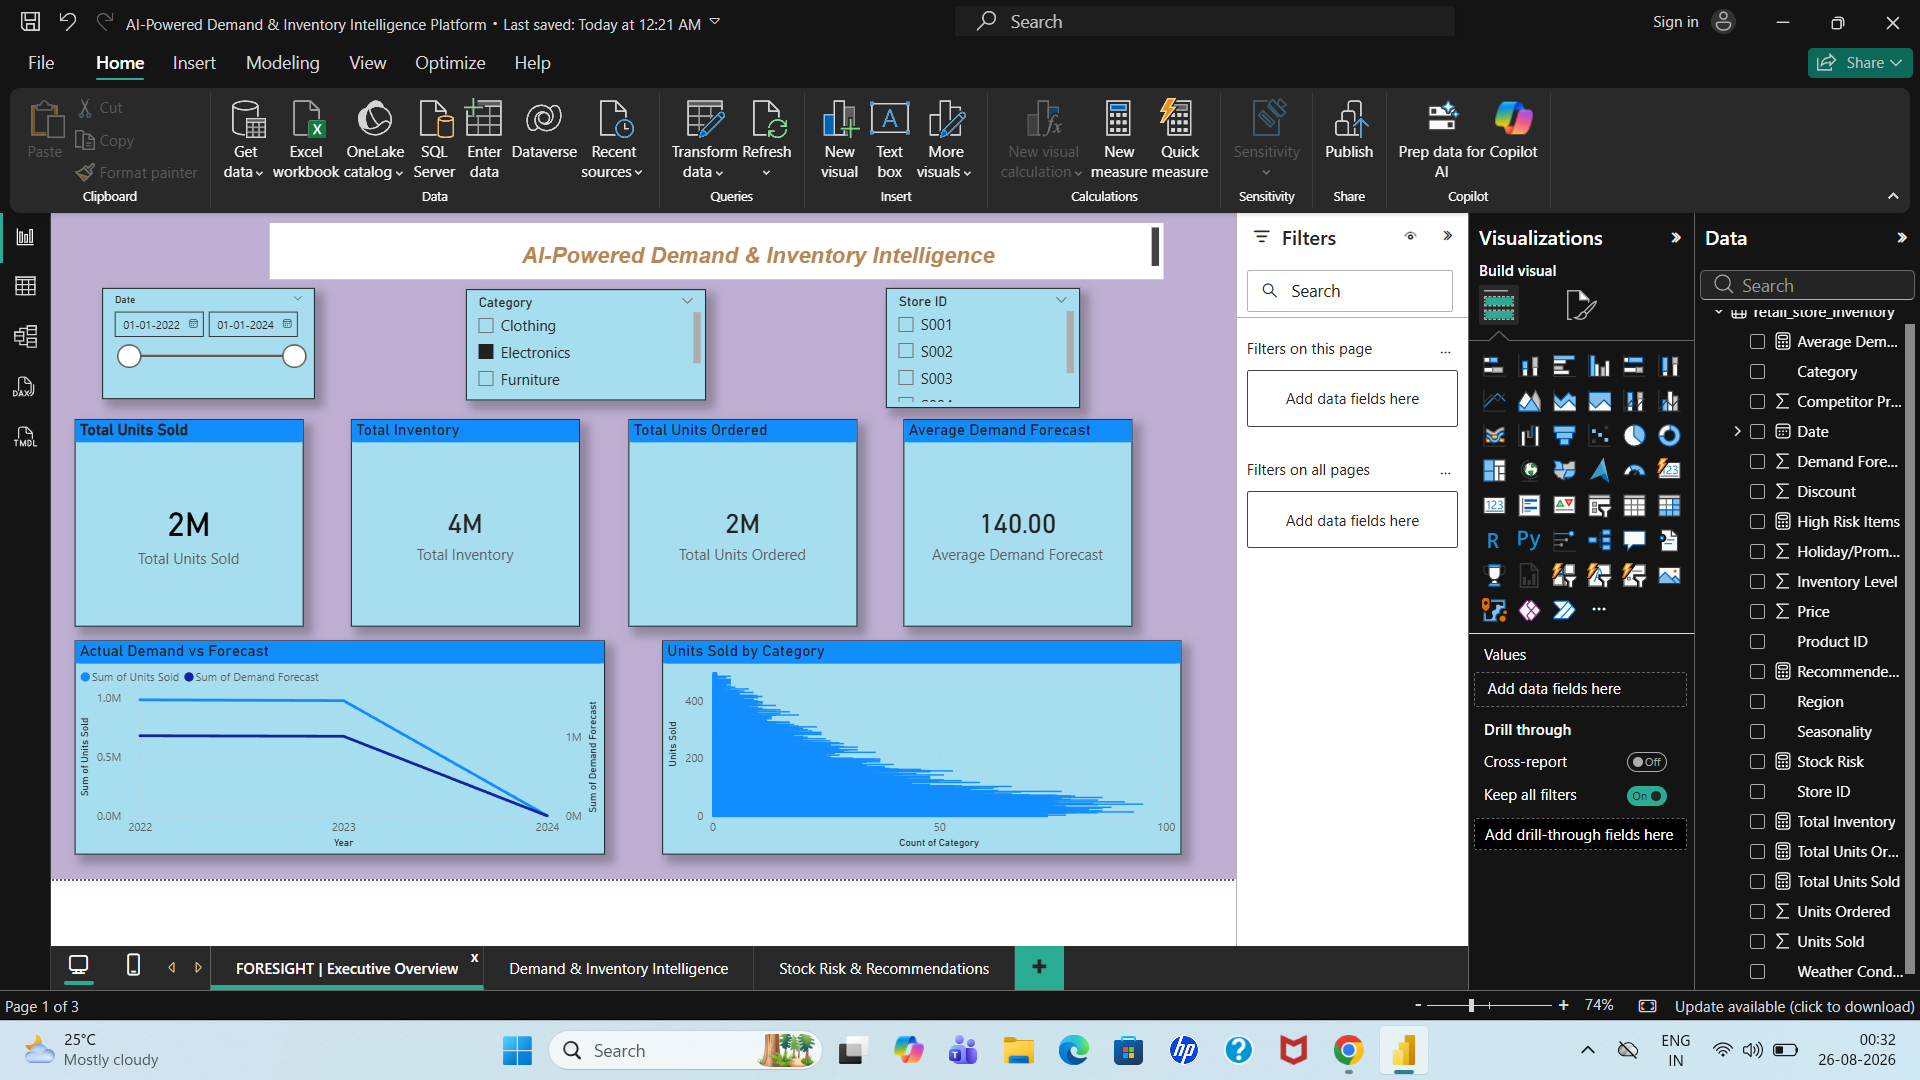

Layout of this report page (visuals, bound fields, positions):
{"tool":"powerbi","page":{"name":"FORESIGHT | Executive Overview","canvas":[1280,720],"ordinal":0},"visuals":[{"type":"card","title":"Total Units Sold","fields":{"Values":["retail_store_inventory.Total Units Sold"]},"box":[25.7,222.8,247.1,224.2],"z":0},{"type":"card","title":"Total Inventory","fields":{"Values":["retail_store_inventory.Total Inventory"]},"box":[324.1,222.8,247.1,224.2],"z":1},{"type":"card","title":"Total Units Ordered","fields":{"Values":["retail_store_inventory.Total Units Ordered"]},"box":[623.9,222.8,247.1,224.2],"z":2},{"type":"card","title":"Average Demand Forecast","fields":{"Values":["retail_store_inventory.Average Demand Forecast"]},"box":[921,222.8,247.1,224.2],"z":3},{"type":"lineChart","title":"Actual Demand vs Forecast","fields":{"Category":["retail_store_inventory.Date.Variation.Date Hierarchy.Year","retail_store_inventory.Date.Variation.Date Hierarchy.Quarter","retail_store_inventory.Date.Variation.Date Hierarchy.Month","retail_store_inventory.Date.Variation.Date Hierarchy.Day"],"Y":["Sum(retail_store_inventory.Units Sold)"],"Y2":["Sum(retail_store_inventory.Demand Forecast)"]},"box":[25.7,461.9,572.6,230.9],"z":4},{"type":"clusteredBarChart","title":"Units Sold by Category","fields":{"Y":["CountNonNull(retail_store_inventory.Category)"],"Category":["retail_store_inventory.Units Sold"]},"box":[660.4,461.9,560.5,230.9],"z":5},{"type":"textbox","box":[236.3,10.8,965.6,60.8],"z":6},{"type":"slicer","fields":{"Values":["retail_store_inventory.Date"]},"box":[55.4,81,229.6,120.2],"z":7},{"type":"slicer","fields":{"Values":["retail_store_inventory.Category"]},"box":[448.4,82.4,259.3,120.2],"z":8},{"type":"slicer","fields":{"Values":["retail_store_inventory.Store ID"]},"box":[902.1,81,209.3,129.6],"z":9}]}

Visuals, with their boxes on the page's 1280x720 design canvas (x1, y1, x2, y2). These are canvas units, not pixel positions in the 1920x1080 screenshot, which may show the page scaled, cropped or inside an application window:
"Total Units Sold" card: 26 223 273 447
"Total Inventory" card: 324 223 571 447
"Total Units Ordered" card: 624 223 871 447
"Average Demand Forecast" card: 921 223 1168 447
"Actual Demand vs Forecast" lineChart: 26 462 598 693
"Units Sold by Category" clusteredBarChart: 660 462 1221 693
textbox: 236 11 1202 72
slicer - retail_store_inventory.Date: 55 81 285 201
slicer - retail_store_inventory.Category: 448 82 708 203
slicer - retail_store_inventory.Store ID: 902 81 1111 211
